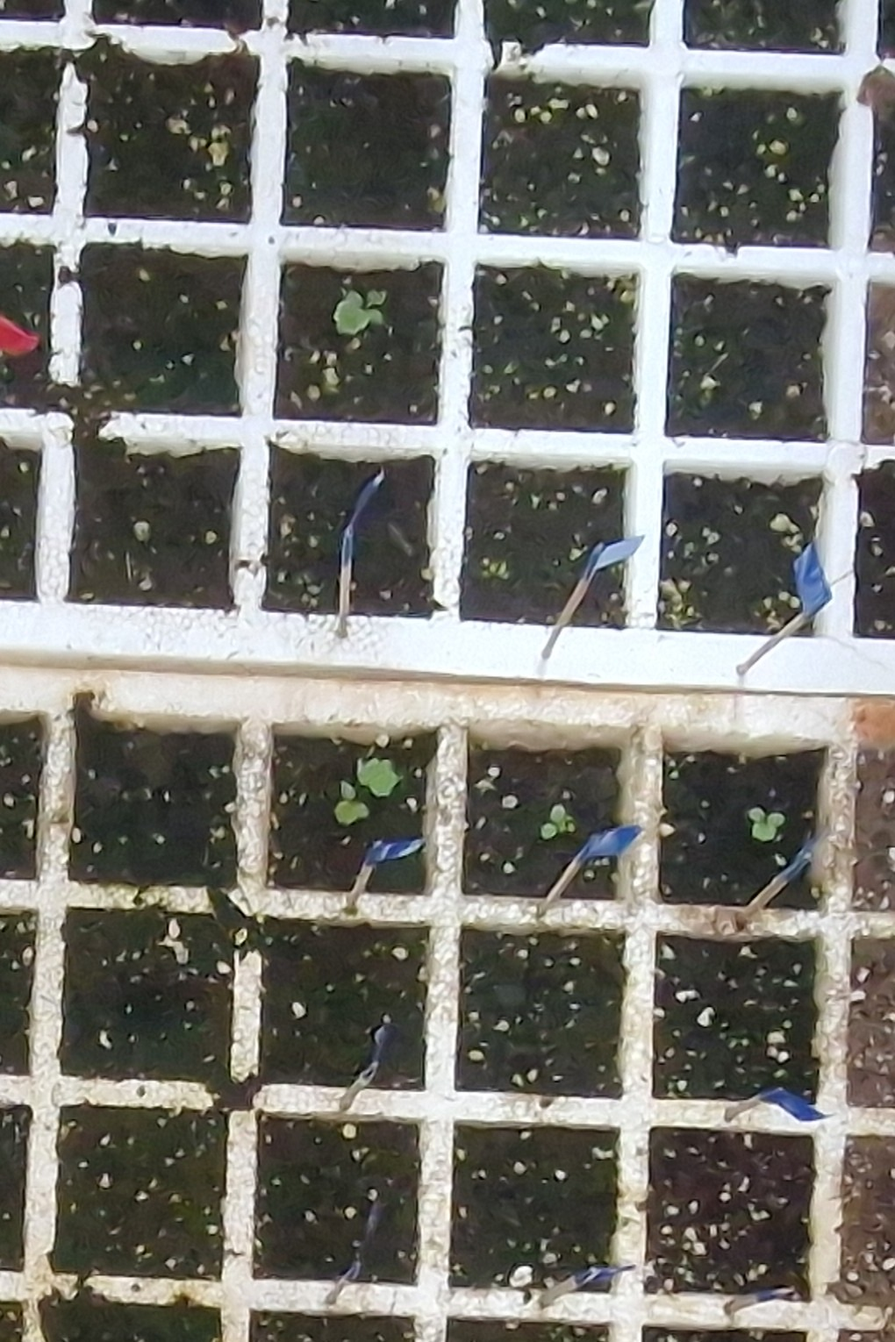Folha: (359, 758, 399, 796), (335, 801, 356, 824), (752, 823, 775, 841), (540, 822, 556, 839), (748, 808, 765, 823), (341, 781, 355, 799), (551, 804, 565, 822), (766, 814, 785, 827), (354, 803, 368, 817)
Germinacao: (335, 759, 400, 825), (748, 806, 785, 840), (541, 805, 565, 840)
